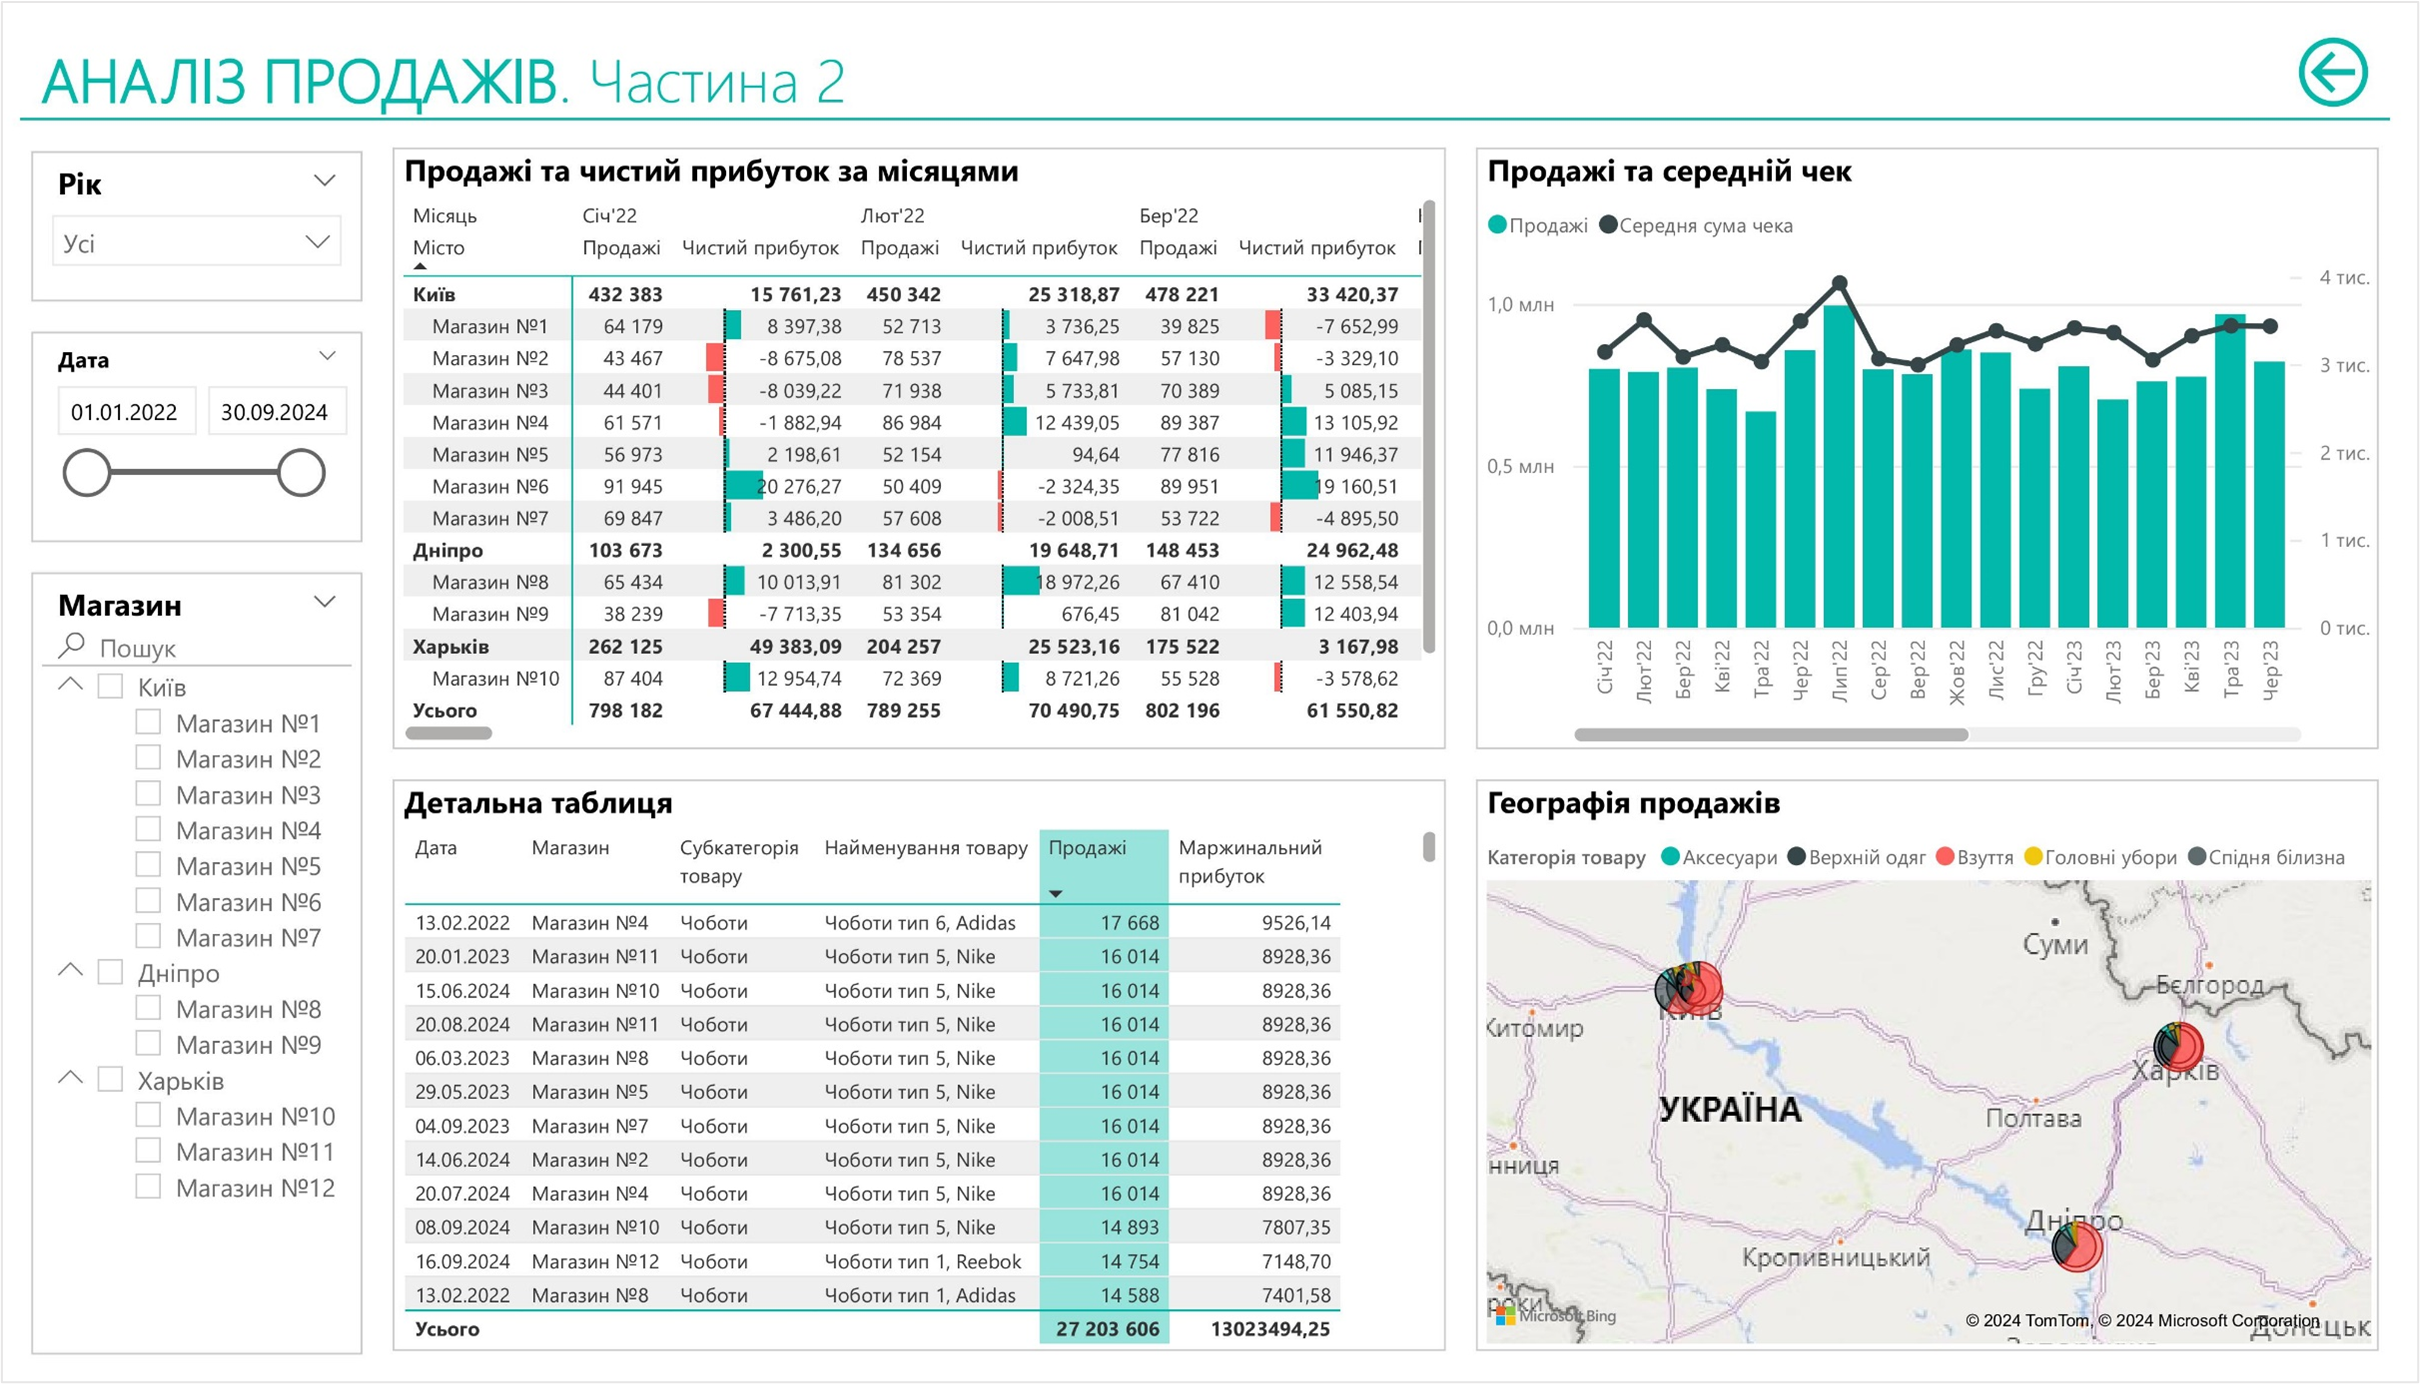

The page's visual inventory and layout, read from the dashboard file:
{"tool":"powerbi","page":{"name":"Аналіз продажів. Частина 2","canvas":[1280,720],"ordinal":1},"visuals":[{"type":"slicer","fields":{"Values":["Календар.Дата"]},"box":[15.7,162,176,112],"z":0},{"type":"slicer","fields":{"Values":["довМагазини.Місто","довМагазини.Магазин"]},"box":[15.7,290,176,416],"z":1000},{"type":"slicer","fields":{"Values":["Календар.Рік"]},"box":[15.7,66,176,80],"z":2000},{"type":"basicShape","box":[0,33,1280,32],"z":3000},{"type":"textbox","box":[16,0,512,64],"z":4000},{"type":"pivotTable","title":"Продажі та чистий прибуток за місяцями","fields":{"Rows":["довМагазини.Місто","довМагазини.Магазин","довТовари.Найменування товару"],"Values":["Sum(рПродажіФакт.ПродажіФакт)","рПродажіФакт.Чистий прибуток Факт"],"Columns":["Календар.Місяць"]},"box":[208,64,560,320],"z":5000},{"type":"lineClusteredColumnComboChart","title":"Продажі та середній чек","fields":{"Y":["Sum(рПродажіФакт.ПродажіФакт)"],"Y2":["рПродажіФакт.Середня сума чека"],"Category":["Календар.Місяць"]},"box":[784,64,480,320],"z":6000},{"type":"map","title":"Географія продажів","fields":{"X":["Sum(довМагазини.Координати - Довгота)"],"Y":["Sum(довМагазини.Координати - Широта)"],"Size":["Sum(рПродажіФакт.ПродажіФакт)"],"Category":["довМагазини.Магазин"],"Series":["довТовари.Категорія товару"]},"box":[784,400,480,304],"z":7000},{"type":"tableEx","title":"Детальна таблиця","fields":{"Values":["Календар.Дата","довМагазини.Магазин","довТовари.Субкатегорія товару","довТовари.Найменування товару","Sum(рПродажіФакт.ПродажіФакт)","Sum(рПродажіФакт.МаржПрибуток факт стовпець)"]},"box":[208,400,560,304],"z":8000},{"type":"actionButton","box":[1216,0,48,48],"z":9000}]}

Visuals, with their boxes in screenshot pixels (x1, y1, x2, y2), scaled from the page's 1280x720 canvas onto the 2420x1384 screenshot:
slicer - Календар.Дата: {"left": 30, "top": 311, "right": 362, "bottom": 527}
slicer - довМагазини.Місто x довМагазини.Магазин: {"left": 30, "top": 557, "right": 362, "bottom": 1357}
slicer - Календар.Рік: {"left": 30, "top": 127, "right": 362, "bottom": 281}
basicShape: {"left": 0, "top": 63, "right": 2419, "bottom": 125}
textbox: {"left": 30, "top": 0, "right": 998, "bottom": 123}
"Продажі та чистий прибуток за місяцями" pivotTable: {"left": 393, "top": 123, "right": 1452, "bottom": 738}
"Продажі та середній чек" lineClusteredColumnComboChart: {"left": 1482, "top": 123, "right": 2390, "bottom": 738}
"Географія продажів" map: {"left": 1482, "top": 769, "right": 2390, "bottom": 1353}
"Детальна таблиця" tableEx: {"left": 393, "top": 769, "right": 1452, "bottom": 1353}
actionButton: {"left": 2299, "top": 0, "right": 2390, "bottom": 92}
